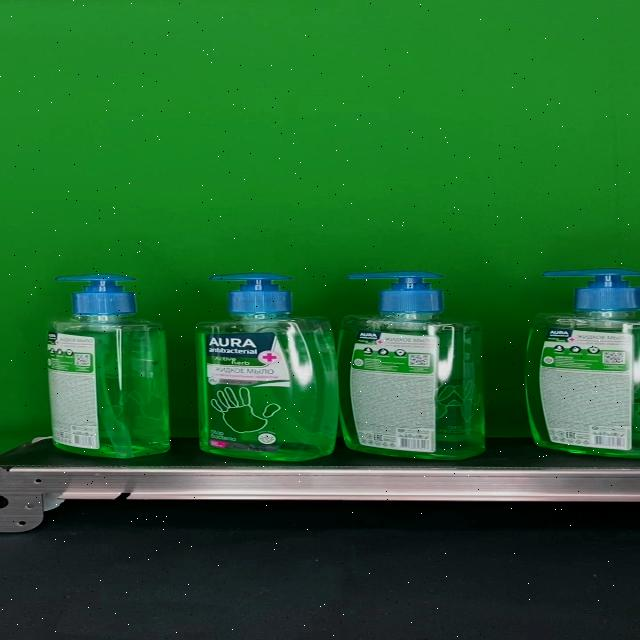Bottle: (337, 271, 486, 460), (196, 272, 338, 460), (45, 273, 171, 458)
Cap: (345, 271, 445, 314), (208, 273, 294, 314), (54, 273, 136, 314)
